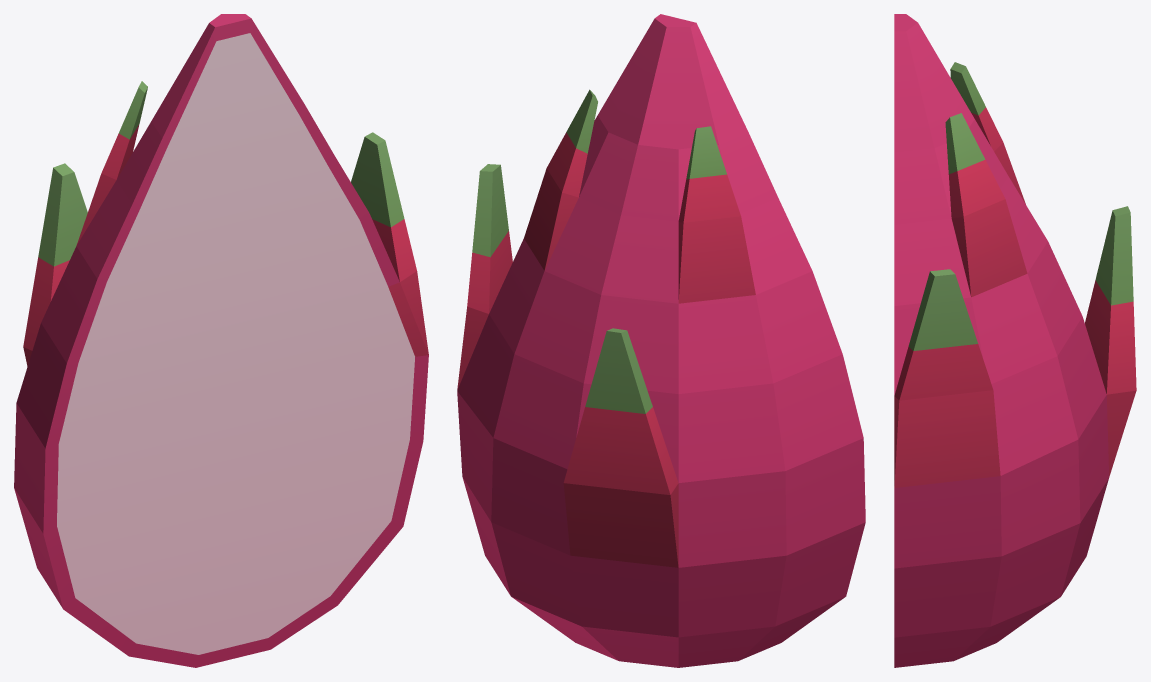
File: Dragon Fruit Half.fbx
3 views of the same model, side by side, from view 1: azimuth 30°, elevation 25°; view 2: azimuth 150°, elevation 25°; view 3: azimuth 270°, elevation 25° (orthographic). The views are drawn at different scales.
Parts seen in each view (by area): view 1: Dragon Fruit Half; view 2: Dragon Fruit Half; view 3: Dragon Fruit Half.
Boxes of the visible parts, box(x1,y1,x2,y2) form: Dragon Fruit Half: box(14, 14, 428, 667); Dragon Fruit Half: box(457, 14, 865, 667); Dragon Fruit Half: box(894, 14, 1136, 667).
Size of the model in its own units: 15.14 by 23.86 by 8.41.
